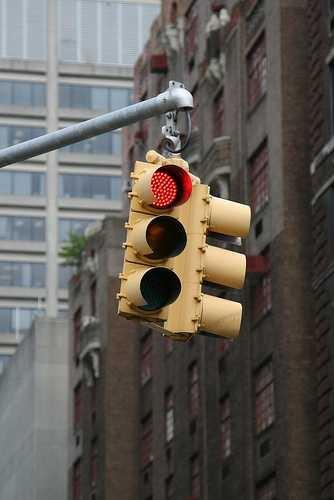red: (128, 157, 197, 320), (129, 158, 192, 213)
